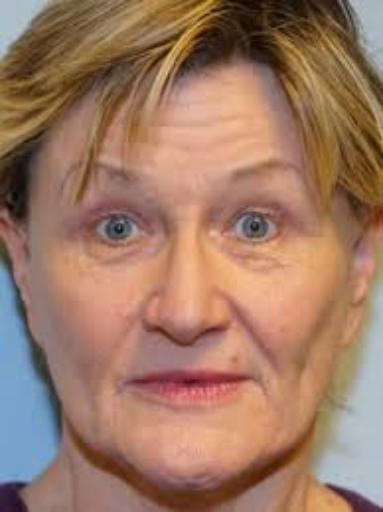left_eye: (224, 212, 288, 245)
left_lip_corner: (239, 366, 264, 391)
right_eye: (81, 214, 155, 248)
right_lip_corner: (110, 369, 144, 397)
